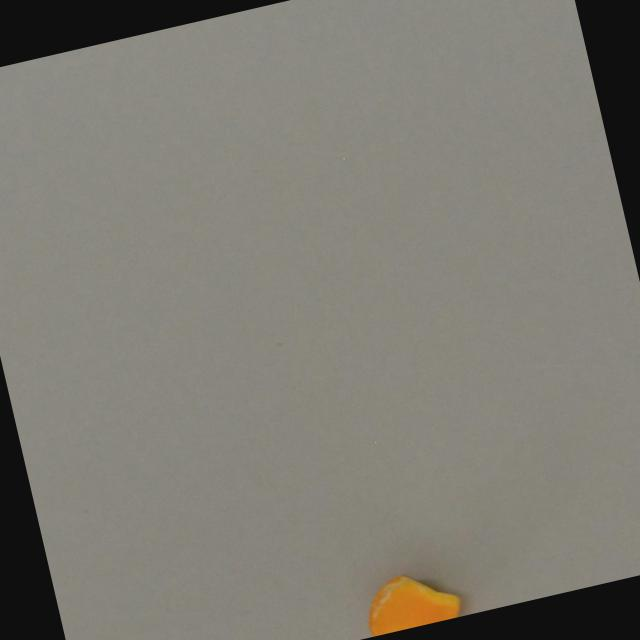no_canjicado: (352, 557, 467, 638)
